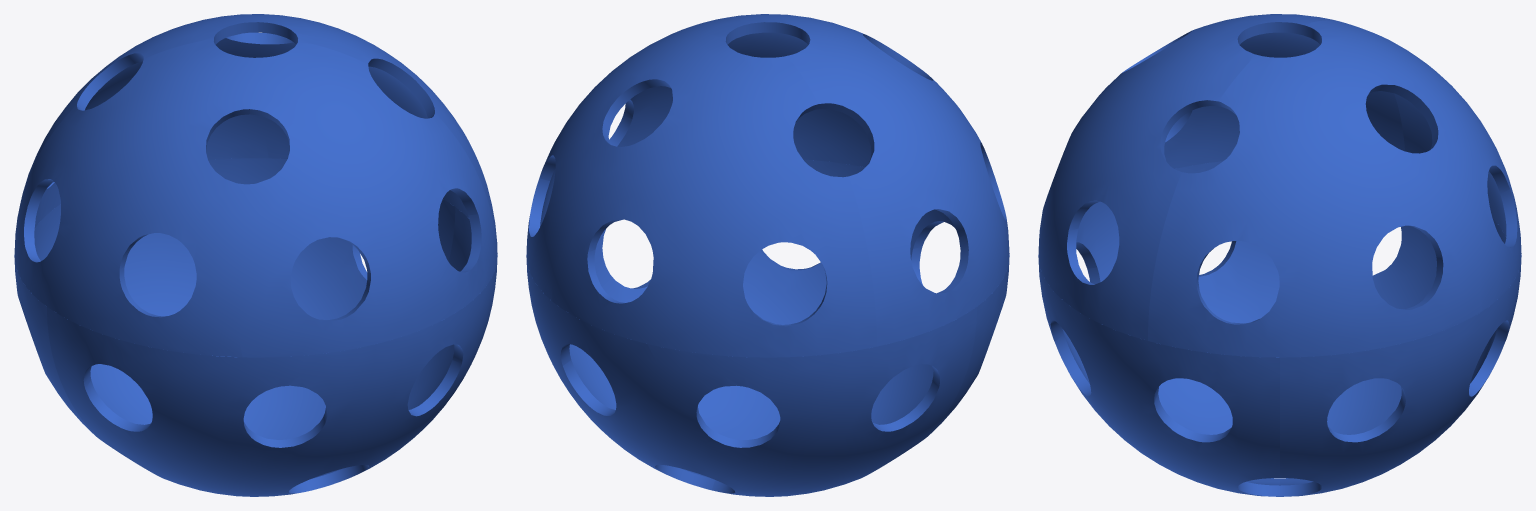
The model's file is nectar-blue.glb.
The picture shows the model from 3 angles, left to right: view 1: azimuth 30°, elevation 25°; view 2: azimuth 150°, elevation 25°; view 3: azimuth 270°, elevation 25°; orthographic projection.
Bounding box in the file's own units: 0.0919 × 0.0905 × 0.0919.
